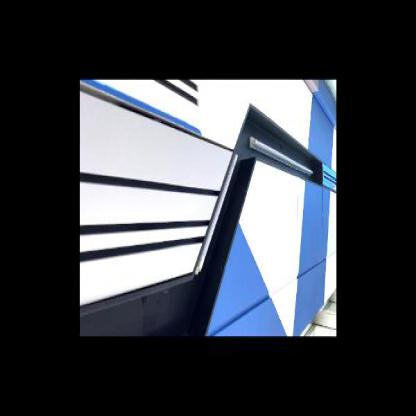light_off: (190, 126, 238, 285), (247, 123, 315, 185)
